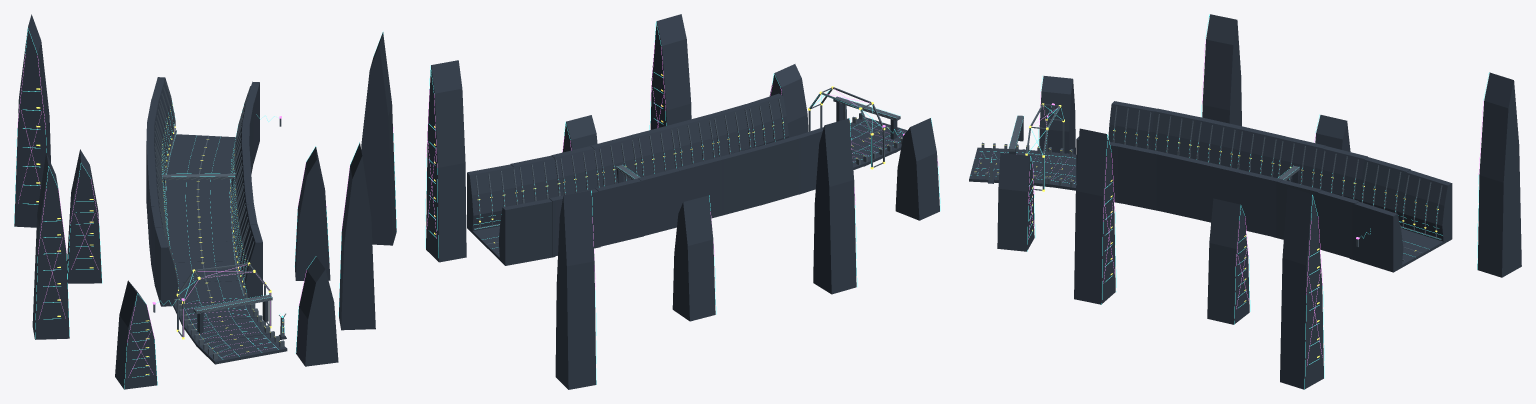
The model's file is route_batch_4.glb.
3 views of the same model, side by side, from view 1: azimuth 30°, elevation 25°; view 2: azimuth 150°, elevation 25°; view 3: azimuth 270°, elevation 25° (orthographic). The views are drawn at different scales.
Visible parts, largest first — view 1: route_batch_4; view 2: route_batch_4; view 3: route_batch_4.
Part boxes in pixels (x1,y1,x2,y2): route_batch_4: (14, 14, 396, 389); route_batch_4: (425, 14, 940, 389); route_batch_4: (969, 14, 1521, 389).
Size of the model in its own units: 624 by 292 by 766.
